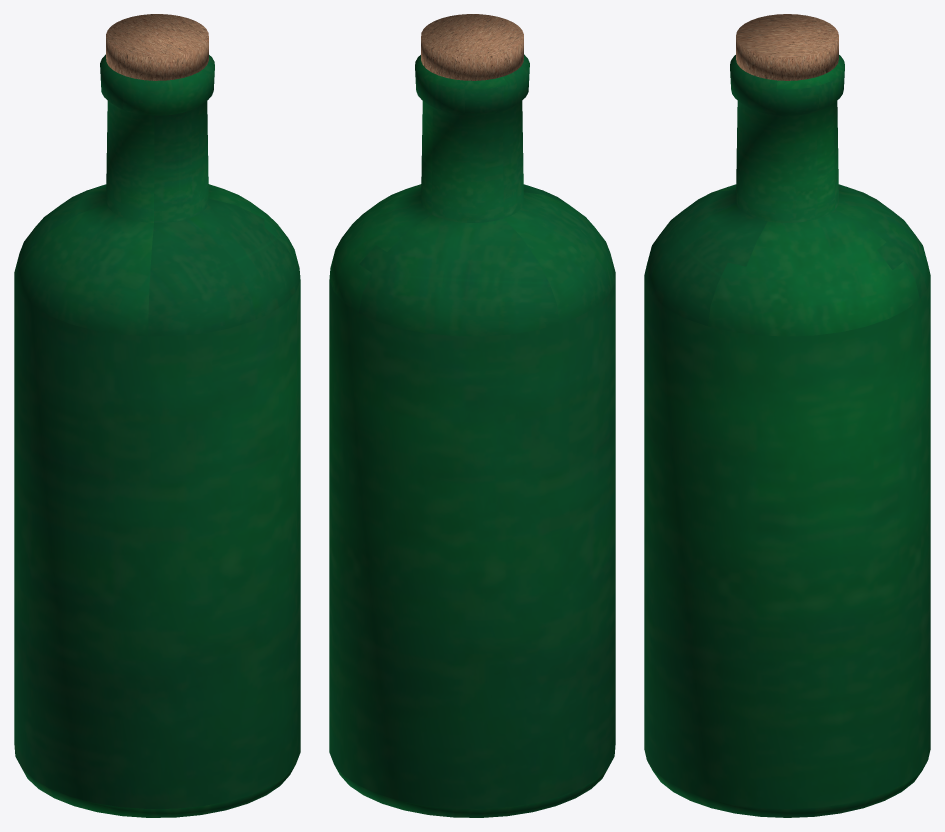
Rendered from zielona-butelka.fbx.
3 views of the same model, side by side, from view 1: azimuth 30°, elevation 25°; view 2: azimuth 150°, elevation 25°; view 3: azimuth 270°, elevation 25° (orthographic).
Visible parts, largest first — view 1: Circle.004; view 2: Circle.004; view 3: Circle.004.
Boxes of the visible parts, x1,y1,x2,y2 form: Circle.004: (14,14,300,817); Circle.004: (329,14,615,817); Circle.004: (644,14,930,817).
Bounding box in the file's own units: 11.07 × 31.07 × 11.07.
2 materials, 2 textured.
